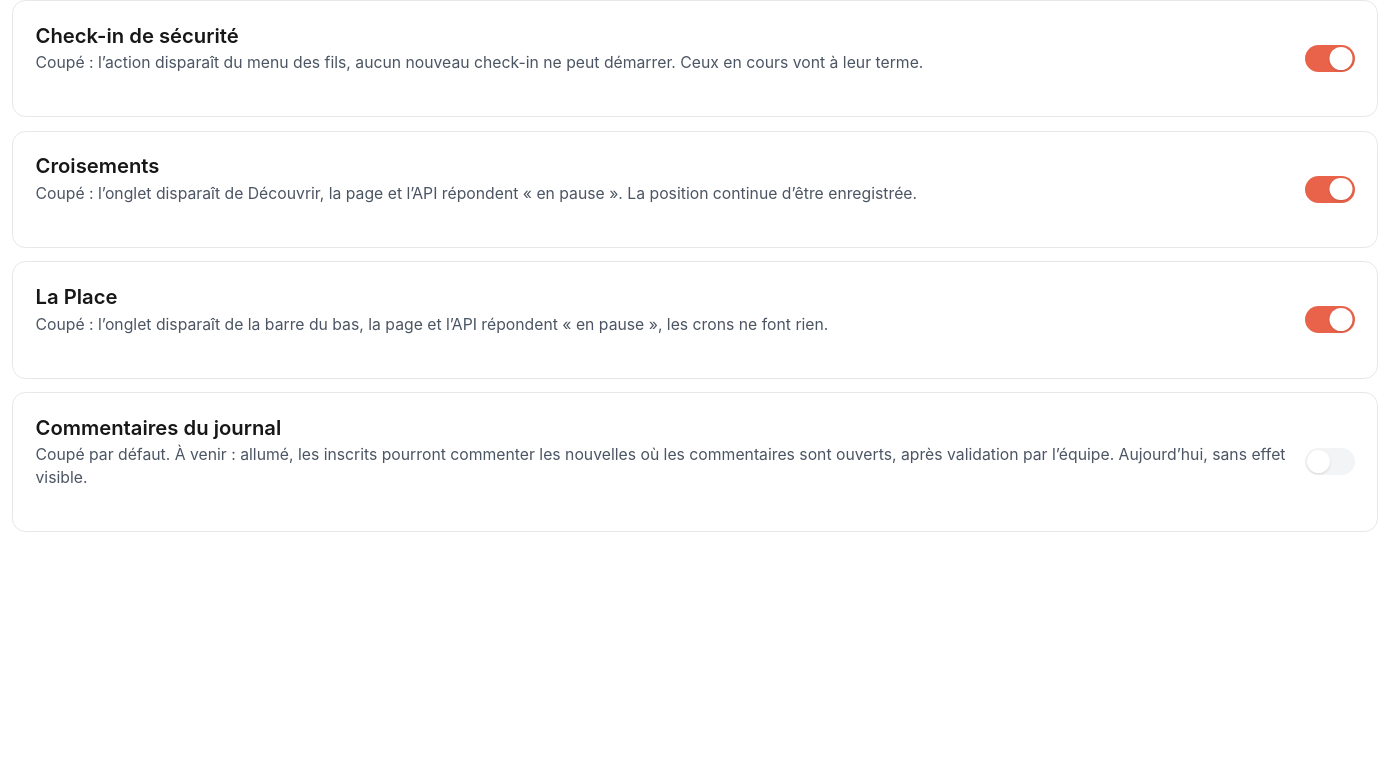
it: FeatureSwitches › si le serveur refuse, l’interrupteur revient et le dit
This screenshot has width=1378, height=768.
Click the switch named "check-in" in the row of "Check-in de sécurité" at point(1330, 59), box [1305,45,1354,72]
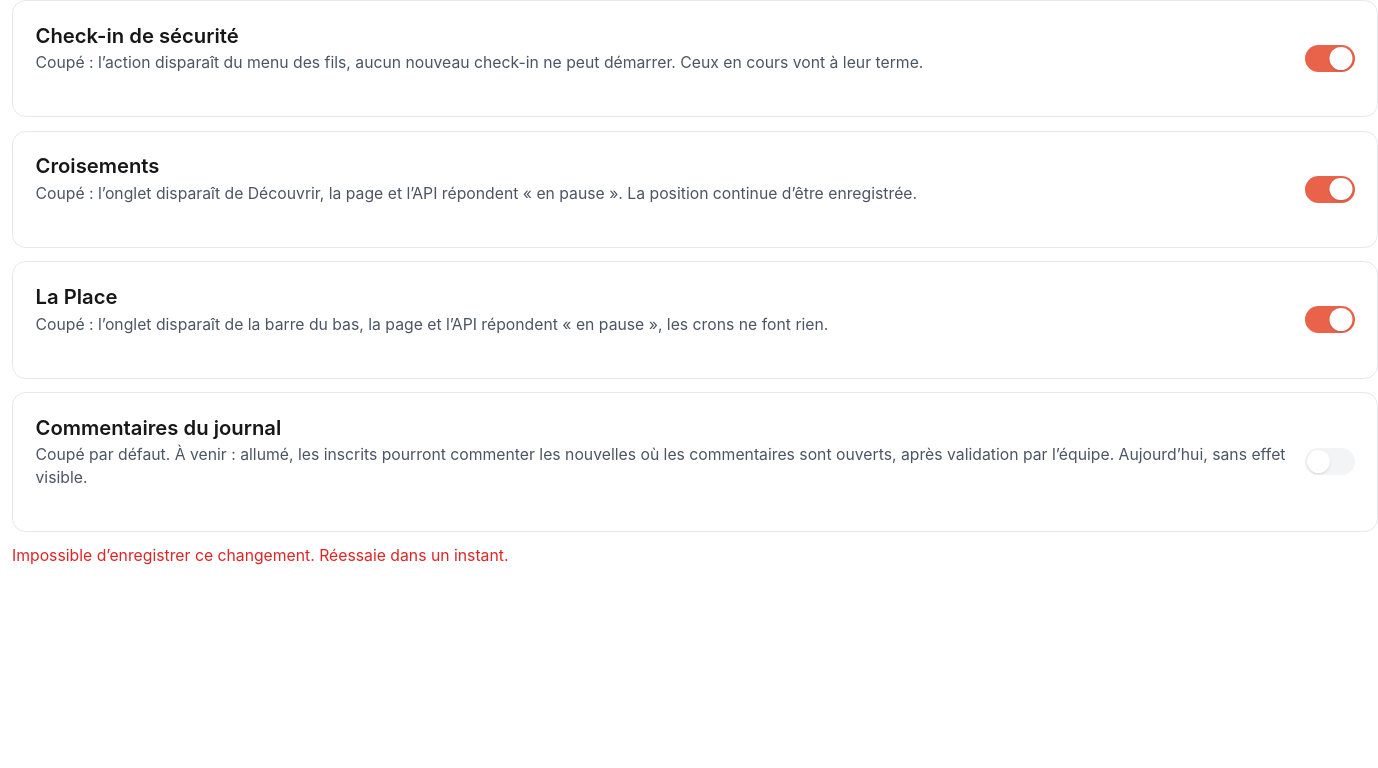
Expected: the message shows "Impossible", [12,546,508,565]
